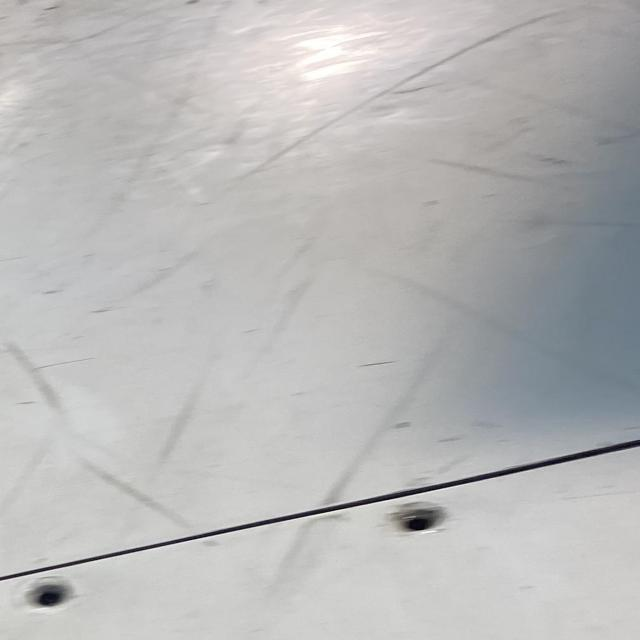Missing-head: (391, 501, 448, 533), (25, 576, 74, 608)
